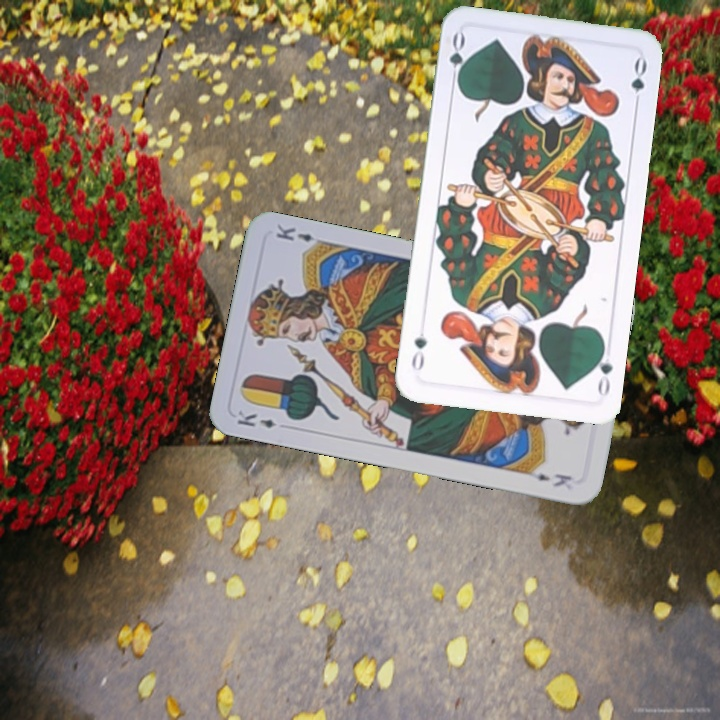EK: (233, 407, 279, 431)
GO: (589, 339, 615, 399), (445, 29, 468, 89)
